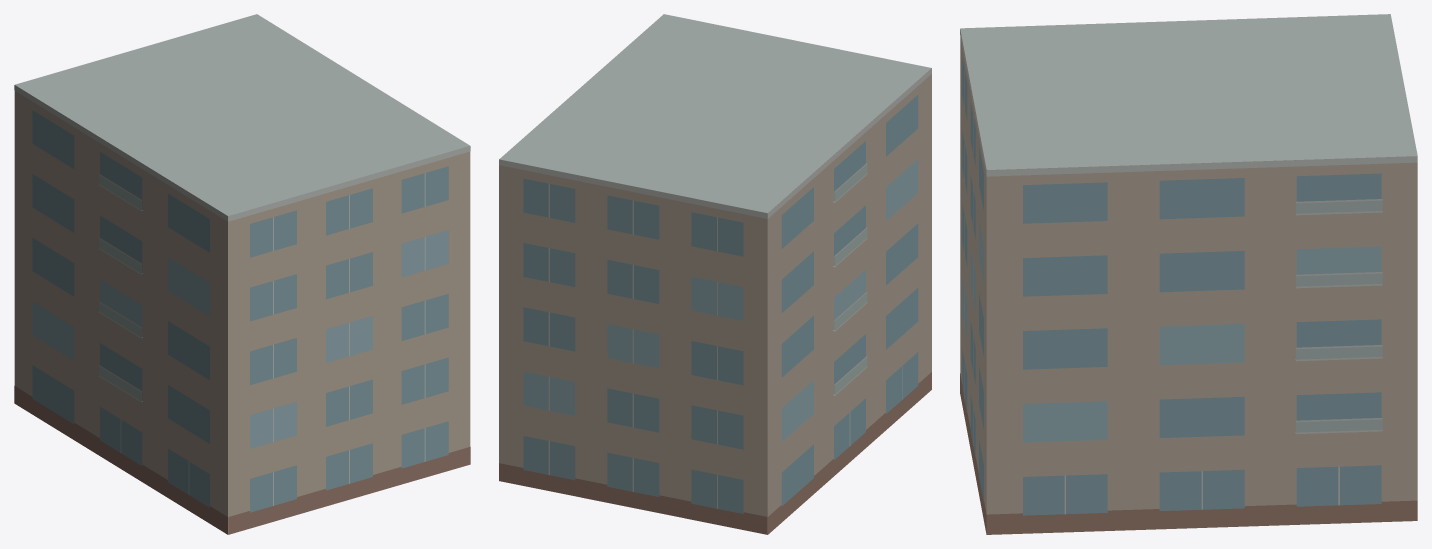
Rendered from survey-upis-33023659.glb.
The picture shows the model from 3 angles, left to right: view 1: azimuth 30°, elevation 25°; view 2: azimuth 150°, elevation 25°; view 3: azimuth 270°, elevation 25°; orthographic projection. The views are drawn at different scales.
Visible parts, largest first — view 1: survey-upis-33023659.tmp; view 2: survey-upis-33023659.tmp; view 3: survey-upis-33023659.tmp.
Part boxes in pixels (x1=…): survey-upis-33023659.tmp: x1=14, y1=14, x2=470, y2=534; survey-upis-33023659.tmp: x1=499, y1=14, x2=931, y2=534; survey-upis-33023659.tmp: x1=960, y1=14, x2=1417, y2=534.
Size of the model in its own units: 12.58 by 13.7 by 15.59.
